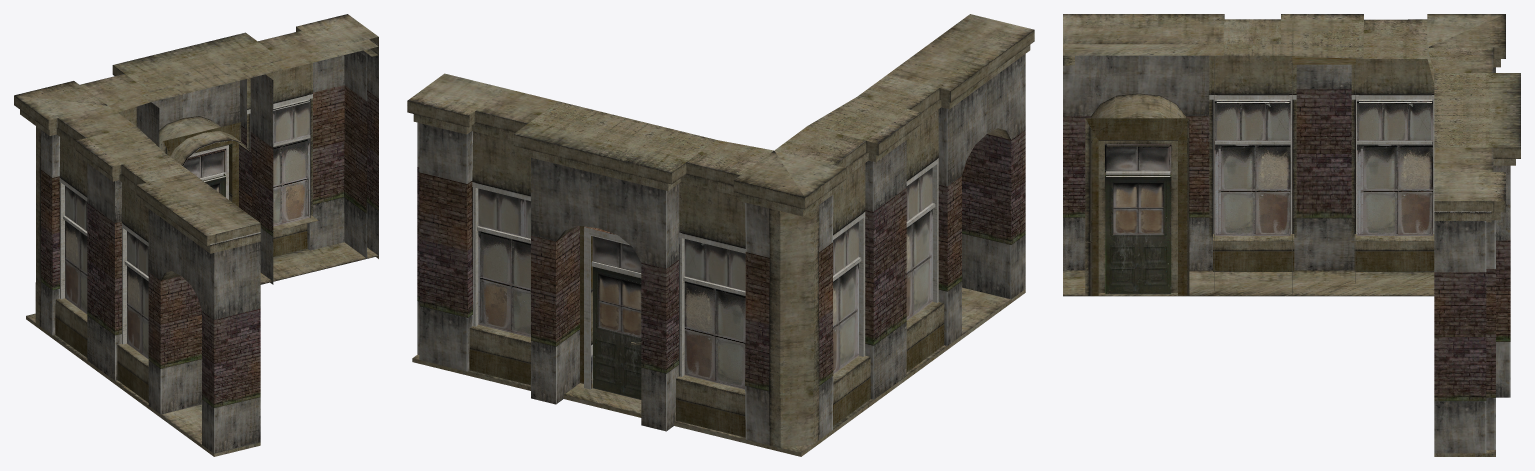
File: Corner_Building_Part_011_Base.fbx
3 renders of one model, left to right at view 1: azimuth 30°, elevation 25°; view 2: azimuth 150°, elevation 25°; view 3: azimuth 270°, elevation 25°, orthographic. The views are drawn at different scales.
Visible parts, largest first — view 1: Corner_Building_Part_011_Base; view 2: Corner_Building_Part_011_Base; view 3: Corner_Building_Part_011_Base.
Part boxes in pixels (<box>): Corner_Building_Part_011_Base: <box>14,14,378,456</box>; Corner_Building_Part_011_Base: <box>407,14,1034,456</box>; Corner_Building_Part_011_Base: <box>1063,14,1520,456</box>.
Bounding box in the file's own units: 716 × 456 × 740.
